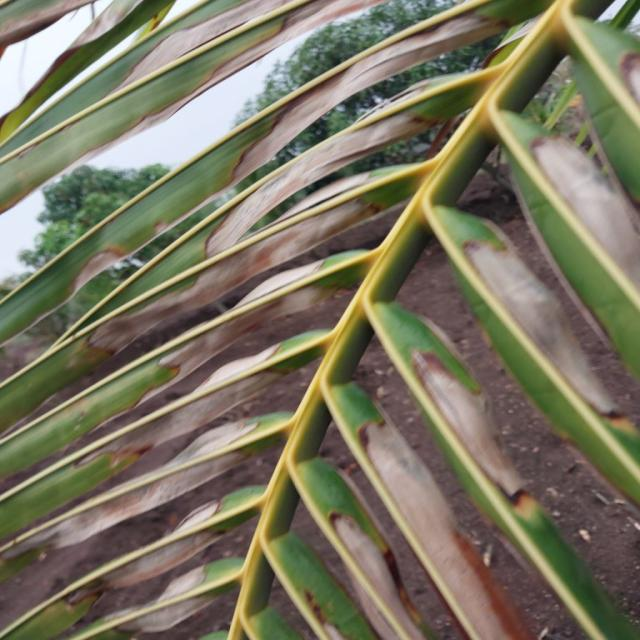gray leaf spot: (41, 0, 640, 640), (54, 3, 374, 138)
